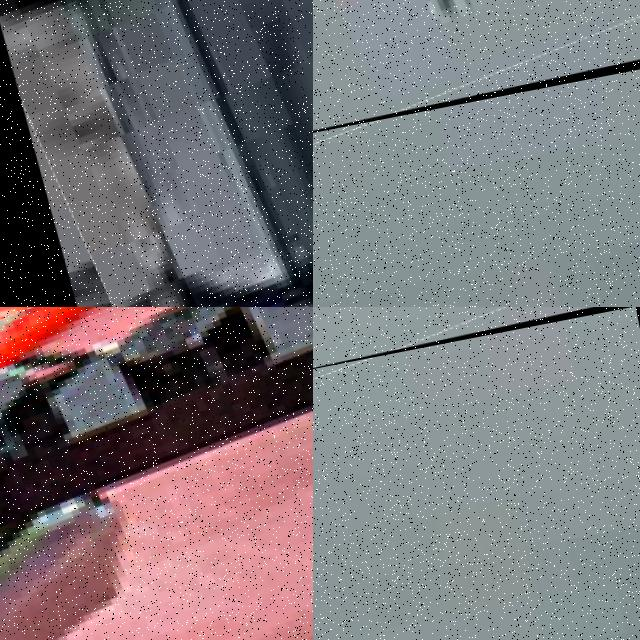0: (0, 0, 313, 307), (313, 0, 640, 154), (313, 307, 635, 382)
drone: (0, 307, 313, 640)
